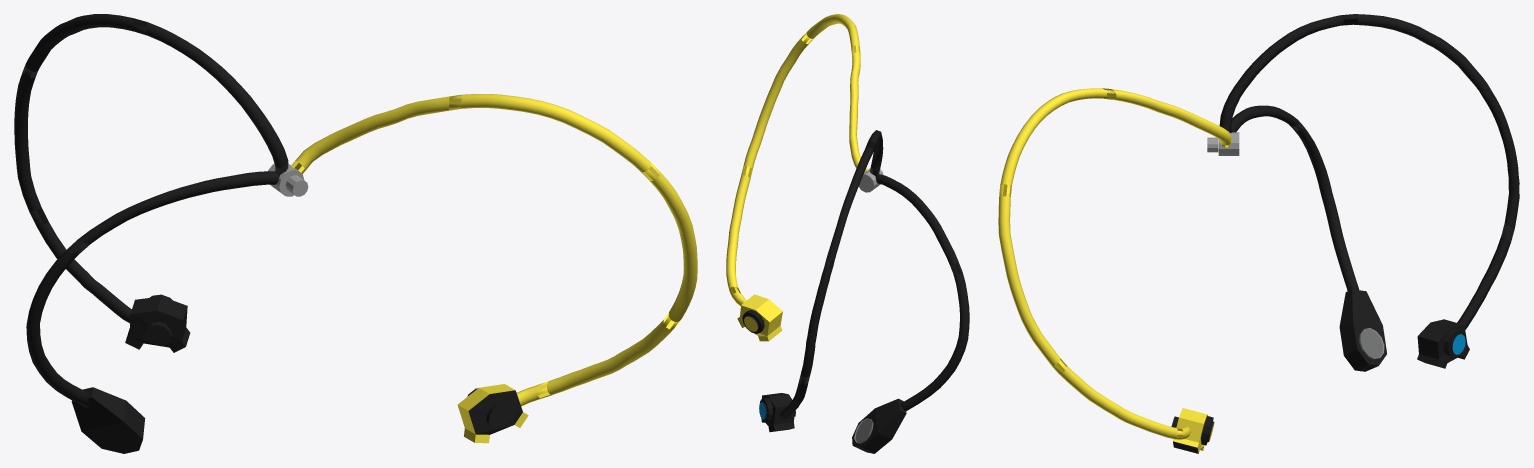
The model's file is reg.fbx.
3 renders of one model, left to right at view 1: azimuth 30°, elevation 25°; view 2: azimuth 150°, elevation 25°; view 3: azimuth 270°, elevation 25°, orthographic. The views are drawn at different scales.
Parts seen in each view (by area): view 1: reg; view 2: reg; view 3: reg.
Boxes of the visible parts, bbox=[...] form: reg: bbox=[14, 14, 697, 453]; reg: bbox=[726, 14, 969, 453]; reg: bbox=[998, 14, 1519, 453].
Size of the model in its own units: 156 by 134 by 176.
